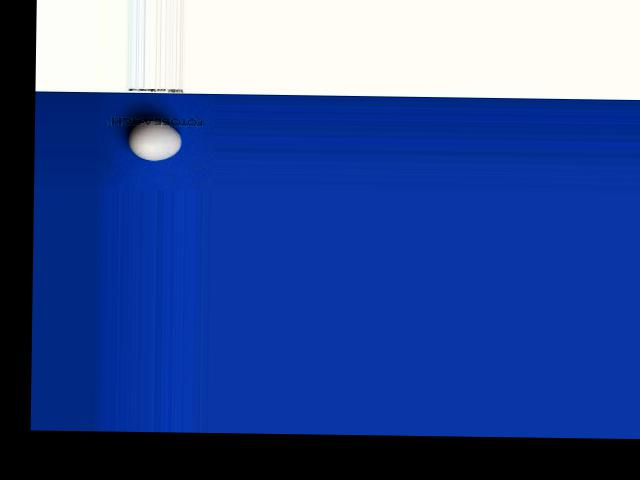egg: (127, 118, 181, 160)
